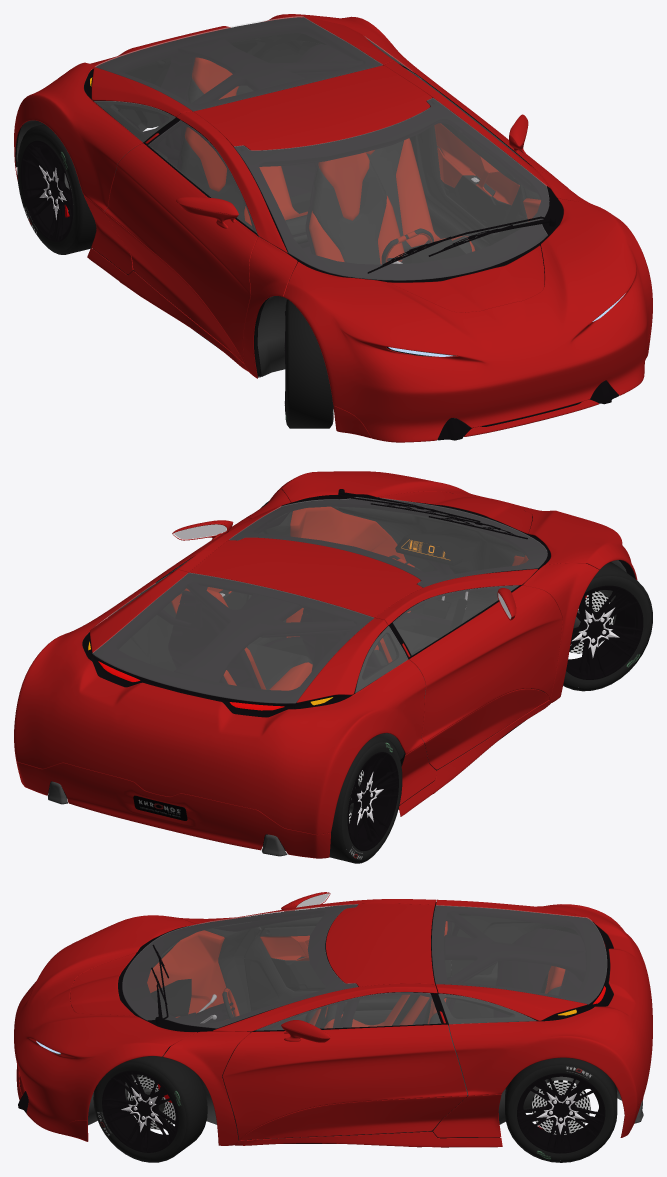
Rendered from concept.glb.
The picture shows the model from 3 angles, top to bottom: view 1: azimuth 30°, elevation 25°; view 2: azimuth 150°, elevation 25°; view 3: azimuth 270°, elevation 25°; orthographic projection. The views are drawn at different scales.
Parts seen in each view (by area): view 1: body_paint, body_Glass, body_mat, body_Interior 3 Carmine, body_Interior 1, body_Interior 2, wheel_fr_Tiretread, wheel_rr_Rim1, body_Mechanical, wheel_rr_Tireside, wheel_rr_Tiretread, body_Panel Sides (+1 smaller); view 2: body_paint, body_Glass, body_mat, body_Interior 1, body_Interior 3 Carmine, wheel_fr_Rim1, wheel_rr_Rim1, body_Interior 2, body_Floormat, wheel_fr_Tireside, wheel_rr_Tireside, body_Dashboard (+7 smaller); view 3: body_paint, body_Glass, body_mat, body_Interior 1, body_Interior 3 Carmine, wheel_rl_Rim1, body_Panel Sides, wheel_fl_Rim1, wheel_fl_Tiretread, wheel_rl_Tireside, wheel_fl_Tireside, wheel_rl_Tiretread (+7 smaller).
Part boxes in pixels (<box>): body_paint: <box>14,14,652,442</box>; body_Glass: <box>94,16,549,280</box>; body_mat: <box>16,17,618,440</box>; body_Interior 3 Carmine: <box>185,57,540,349</box>; body_Interior 1: <box>15,33,526,281</box>; body_Interior 2: <box>180,78,472,264</box>; wheel_fr_Tiretread: <box>286,299,332,428</box>; wheel_rr_Rim1: <box>20,140,73,241</box>; body_Mechanical: <box>16,78,526,423</box>; wheel_rr_Tireside: <box>17,130,78,251</box>; wheel_rr_Tiretread: <box>20,124,96,254</box>; body_Panel Sides: <box>93,173,557,376</box>; body_paint: <box>14,471,637,858</box>; body_Glass: <box>92,497,547,703</box>; body_mat: <box>82,489,635,753</box>; body_Interior 1: <box>48,503,528,850</box>; body_Interior 3 Carmine: <box>171,506,528,690</box>; wheel_fr_Rim1: <box>566,585,643,679</box>; wheel_rr_Rim1: <box>347,752,398,850</box>; body_Interior 2: <box>246,628,437,689</box>; body_Floormat: <box>268,598,467,659</box>; wheel_fr_Tireside: <box>564,576,650,688</box>; wheel_rr_Tireside: <box>342,742,402,860</box>; body_Dashboard: <box>395,533,462,566</box>; body_paint: <box>14,892,652,1147</box>; body_Glass: <box>122,904,606,1030</box>; body_mat: <box>18,901,613,1143</box>; body_Interior 1: <box>118,908,613,1030</box>; body_Interior 3 Carmine: <box>147,921,565,1028</box>; wheel_rl_Rim1: <box>517,1073,605,1153</box>; body_Panel Sides: <box>205,921,499,1143</box>; wheel_fl_Rim1: <box>102,1070,178,1152</box>; wheel_fl_Tiretread: <box>93,1054,207,1162</box>; wheel_rl_Tireside: <box>508,1065,613,1160</box>; wheel_fl_Tireside: <box>95,1062,186,1160</box>; wheel_rl_Tiretread: <box>505,1057,617,1162</box>.
Size of the model in its own units: 2.54 by 1.15 by 4.36.
Materials: 22 (6 with a texture image).
